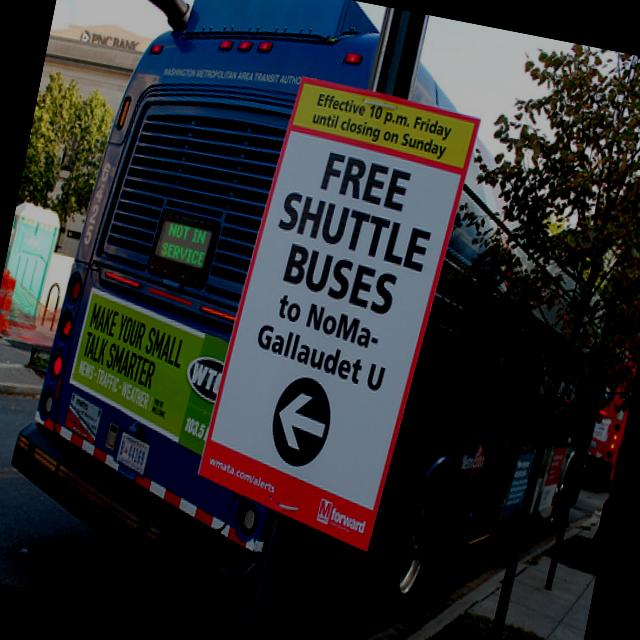Vehicle: (0, 0, 640, 640), (582, 384, 632, 486)
